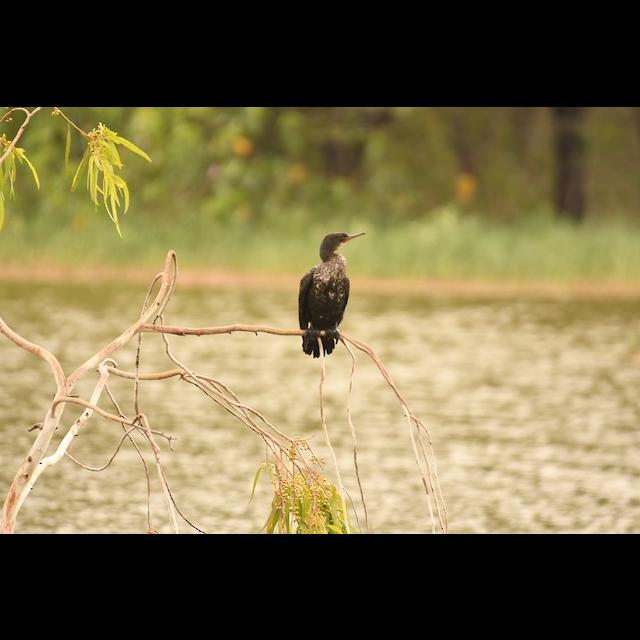cormorant: (292, 224, 368, 358)
